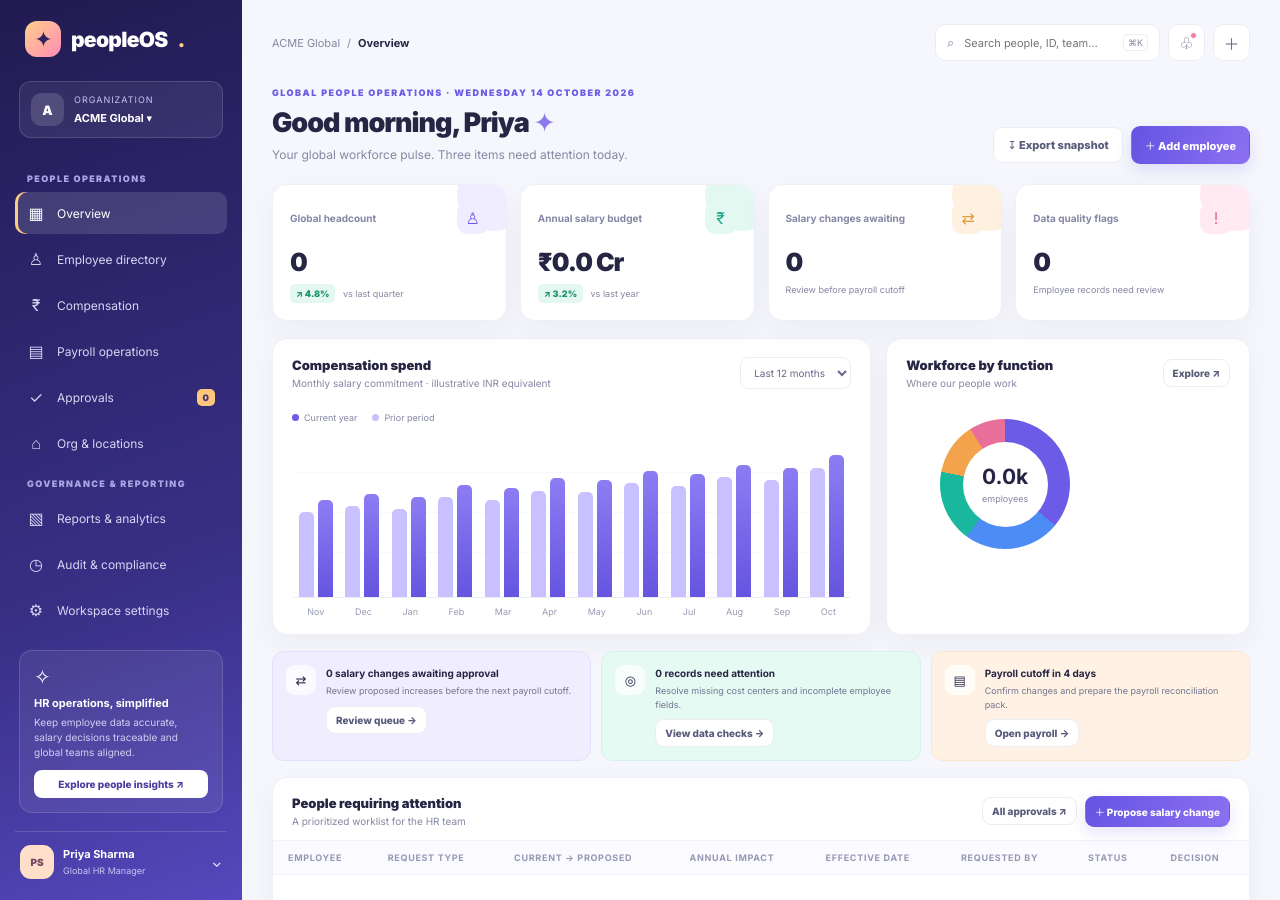
Test: PeopleOS HR dashboard › shows employee filters and opens the employee profile
The width and height of the screenshot is (1280, 900).
Click the button "♙ Employee directory". click: (121, 259)
box: [15,238,227,280]
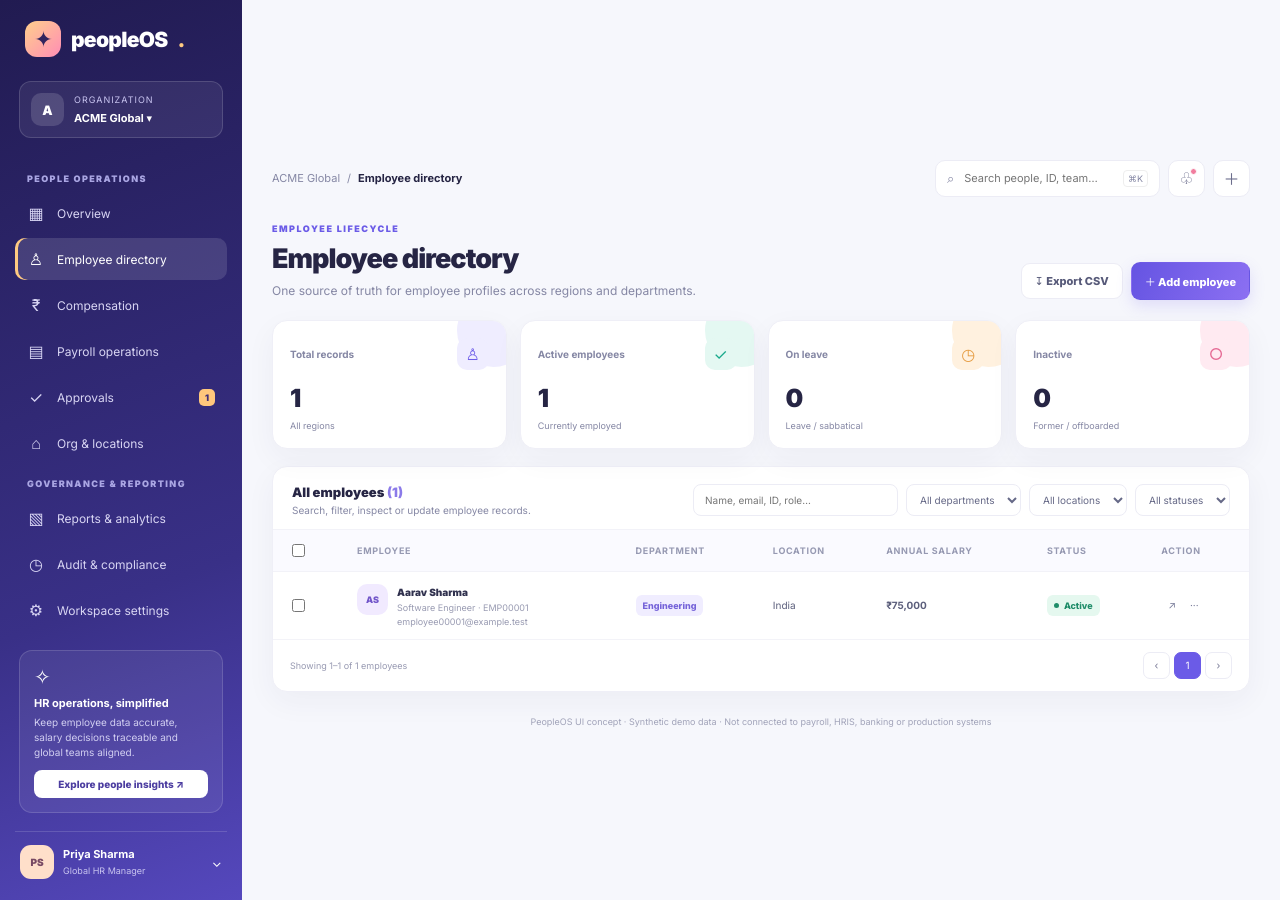
expect the heading "Employee directory" is shown: met, box [272,242,518,274]
expect the text "Aarav Sharma" is shown: met, box [397,586,468,598]
Click the button named "View Aarav Sharma". click: (1172, 605)
box: [1161,594,1183,616]
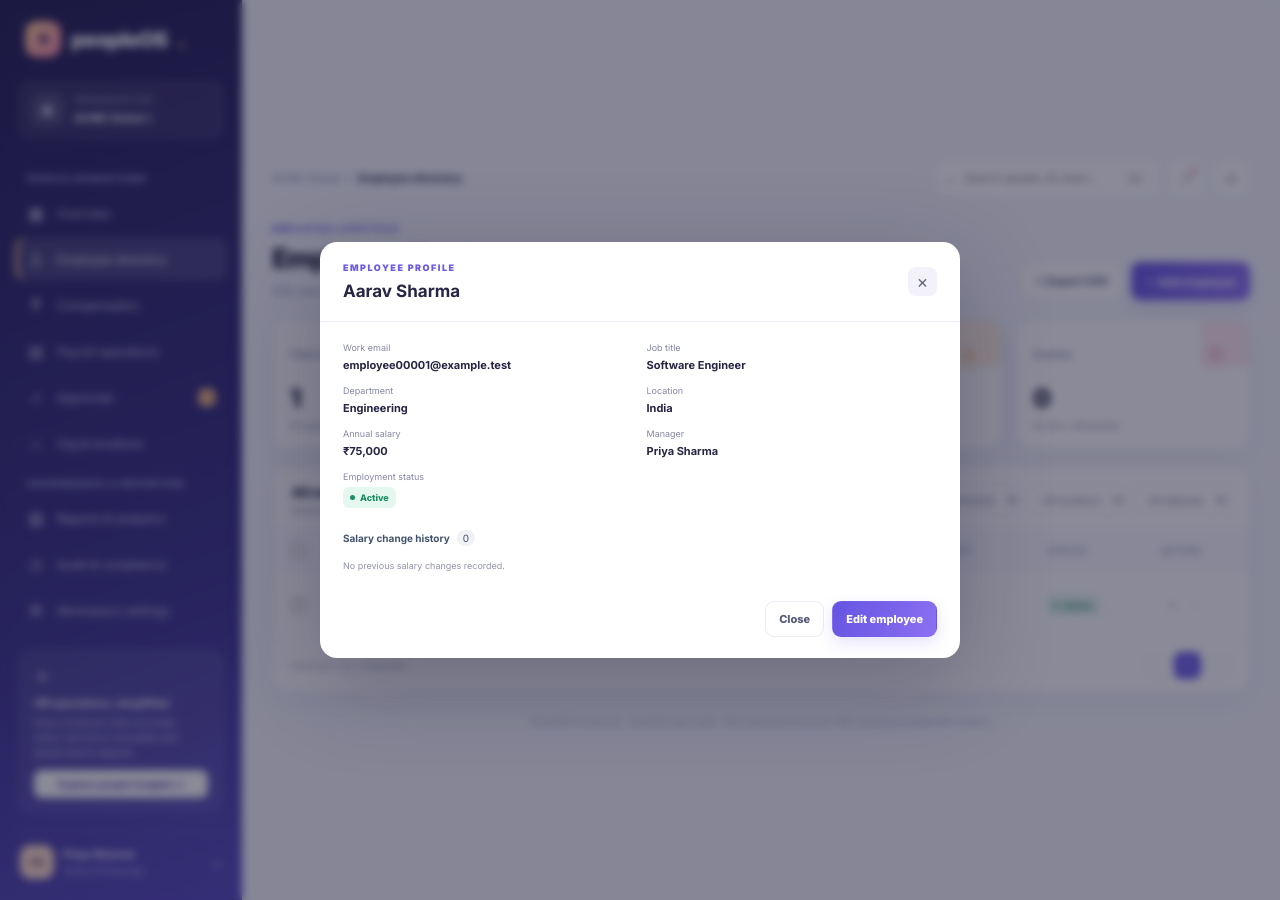
expect the dialog shows "Software Engineer": met, box [646,358,746,372]
